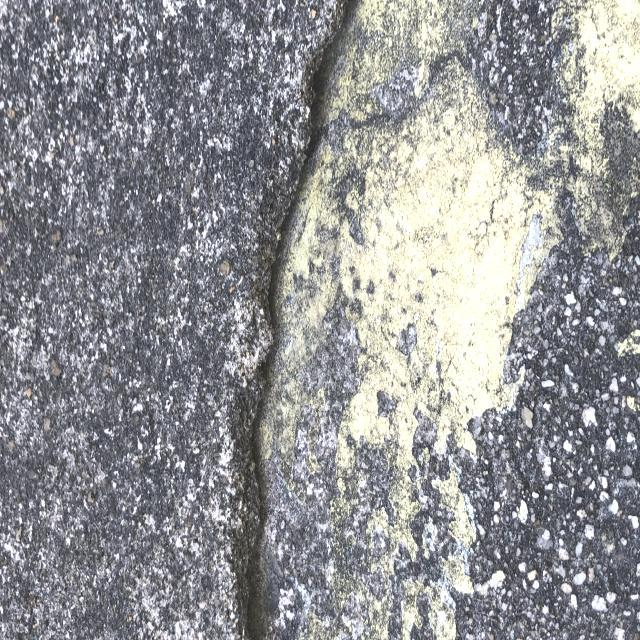SurfaceCrack: (166, 1, 389, 639)
